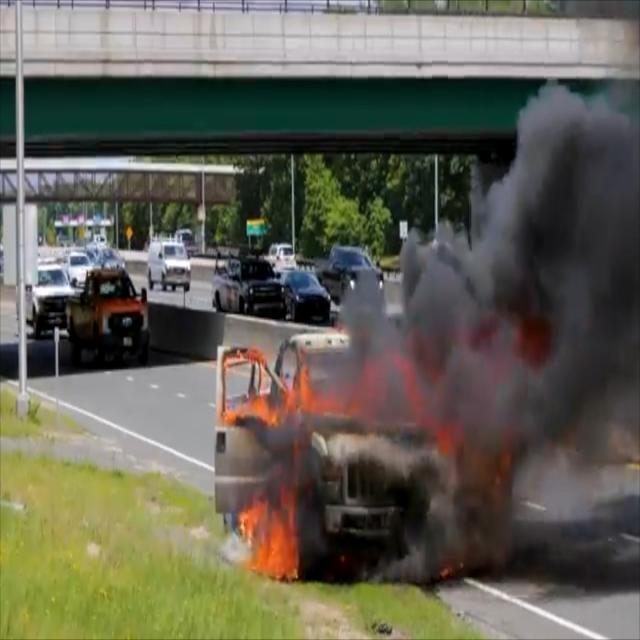fire: (213, 336, 520, 594)
